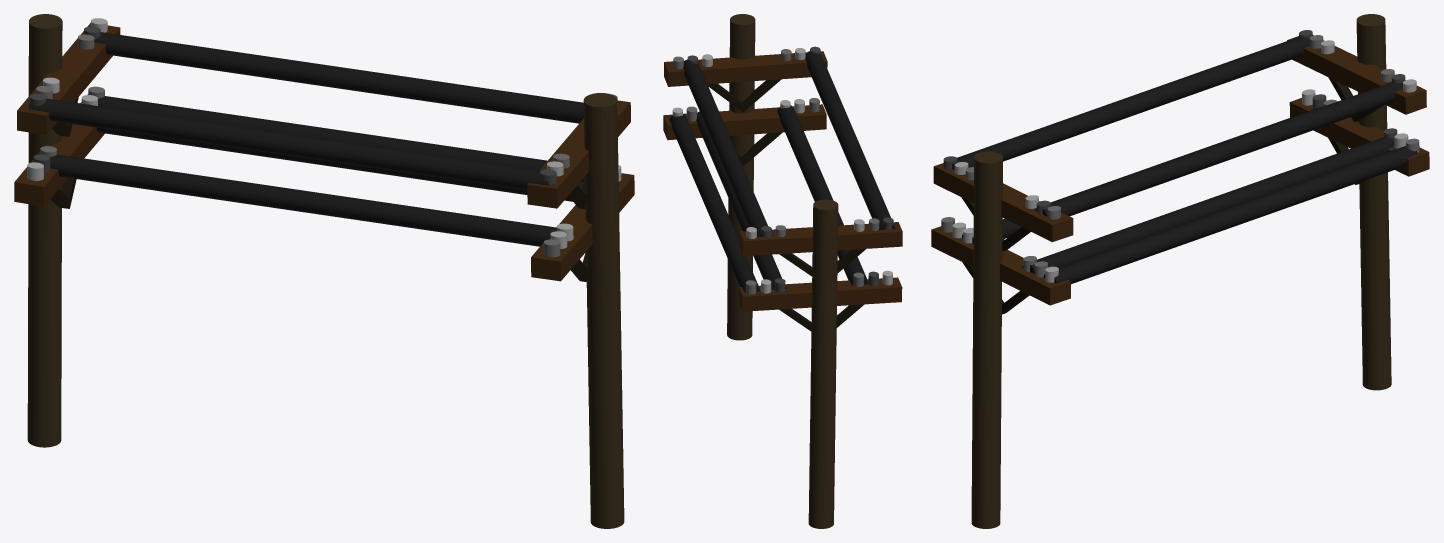
The model's file is berlin.obj.
The picture shows the model from 3 angles, left to right: view 1: azimuth 30°, elevation 25°; view 2: azimuth 150°, elevation 25°; view 3: azimuth 270°, elevation 25°; orthographic projection. The views are drawn at different scales.
Visible parts, largest first — view 1: Cylinder, Cylinder.034, Cylinder.031, Cylinder.025, Cylinder.027, Cylinder.037, Cube.011_Cube.014, Cube_Cube.001, Cube.001_Cube.003, Cube.010_Cube.013, Cylinder.035; view 2: Cylinder.025, Cylinder, Cylinder.031, Cylinder.037, Cylinder.027, Cube_Cube.001, Cube.011_Cube.014, Cube.010_Cube.013, Cube.001_Cube.003, Cylinder.034, Cylinder.035, Cube.004_Cube.007 (+4 smaller); view 3: Cylinder, Cylinder.025, Cylinder.037, Cylinder.027, Cylinder.031, Cylinder.035, Cube.011_Cube.014, Cube_Cube.001, Cube.001_Cube.003, Cube.010_Cube.013, Cylinder.034.
Boxes of the visible parts, <box> form: Cylinder: <box>583,93,624,528</box>; Cylinder.034: <box>50,154,557,246</box>; Cylinder.031: <box>28,98,548,190</box>; Cylinder.025: <box>27,14,62,447</box>; Cylinder.027: <box>94,32,583,123</box>; Cylinder.037: <box>98,96,584,181</box>; Cube.011_Cube.014: <box>17,23,120,135</box>; Cube_Cube.001: <box>527,100,630,208</box>; Cube.001_Cube.003: <box>531,173,634,281</box>; Cube.010_Cube.013: <box>14,94,104,206</box>; Cylinder.035: <box>96,127,583,201</box>; Cylinder.025: <box>808,199,838,528</box>; Cylinder: <box>727,14,755,340</box>; Cylinder.031: <box>805,51,895,229</box>; Cylinder.037: <box>669,113,760,292</box>; Cylinder.027: <box>683,59,771,237</box>; Cube_Cube.001: <box>664,51,827,86</box>; Cube.011_Cube.014: <box>739,222,902,256</box>; Cube.010_Cube.013: <box>738,277,902,311</box>; Cube.001_Cube.003: <box>663,104,826,140</box>; Cylinder.034: <box>777,105,868,285</box>; Cylinder.035: <box>696,111,786,289</box>; Cube.004_Cube.007: <box>740,132,782,166</box>; Cylinder: <box>971,151,1002,528</box>; Cylinder.025: <box>1356,14,1391,390</box>; Cylinder.037: <box>1043,146,1417,284</box>; Cylinder.027: <box>1035,82,1402,216</box>; Cylinder.031: <box>952,35,1313,169</box>; Cylinder.035: <box>1022,137,1394,273</box>; Cube.011_Cube.014: <box>1287,36,1426,114</box>; Cube_Cube.001: <box>933,163,1073,242</box>; Cube.001_Cube.003: <box>931,226,1070,305</box>; Cube.010_Cube.013: <box>1289,98,1429,176</box>; Cylinder.034: <box>962,106,1323,243</box>.
Bounding box in the file's own units: 9.64 × 8.35 × 10.31.
